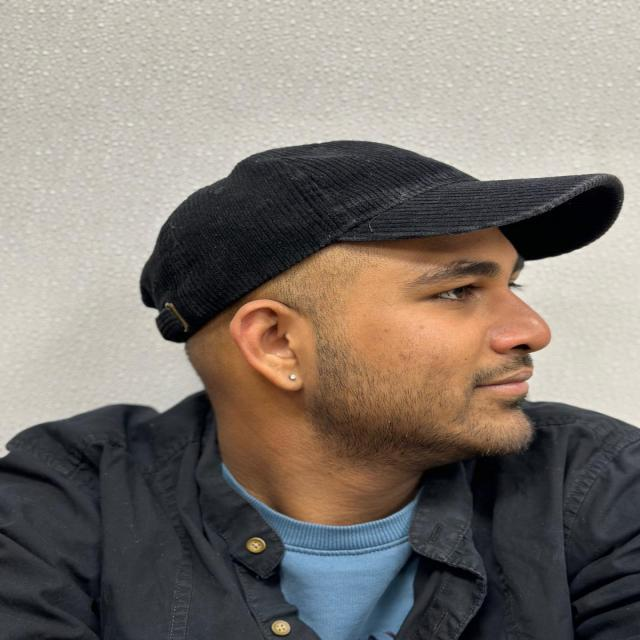cap: (116, 139, 639, 355)
